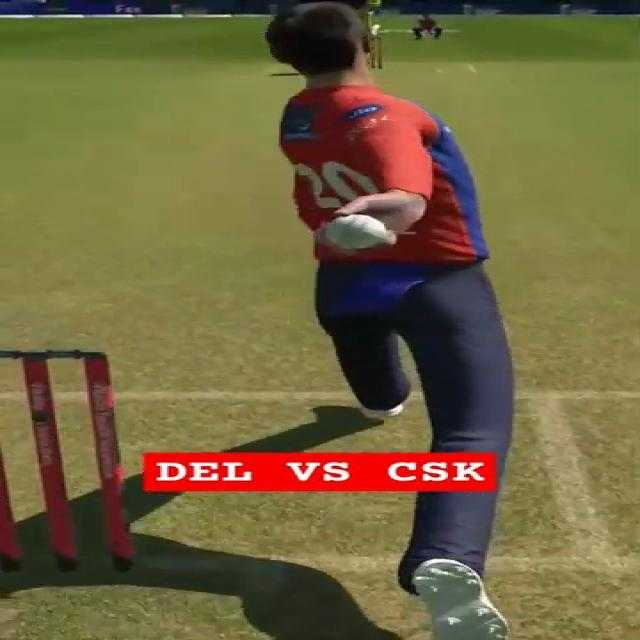ball: (324, 214, 388, 250)
